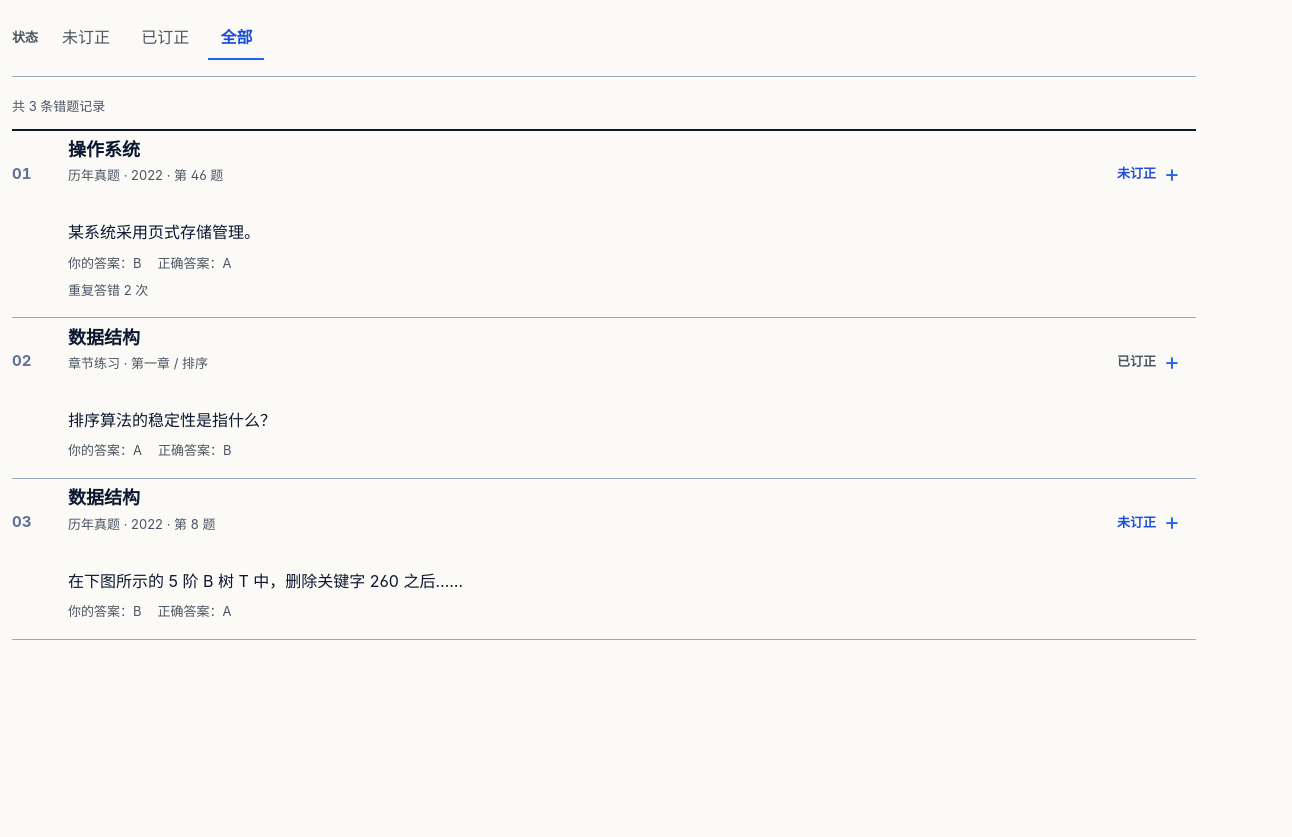
it: Cs408WrongAnswerWorkspace › renders canonical factual statuses and expanded snapshots without legacy terminology
The width and height of the screenshot is (1292, 837).
expect the text "未订正" is shown 2 times: met, box left=1117, top=165, right=1156, bottom=181; left=1117, top=514, right=1156, bottom=530
expect the text "已订正" is shown: met, box left=1117, top=353, right=1156, bottom=369
Click the button with aria-label "展开第 1 条错题记录" at {"x": 104, "y": 150}, box left=12, top=136, right=1196, bottom=212
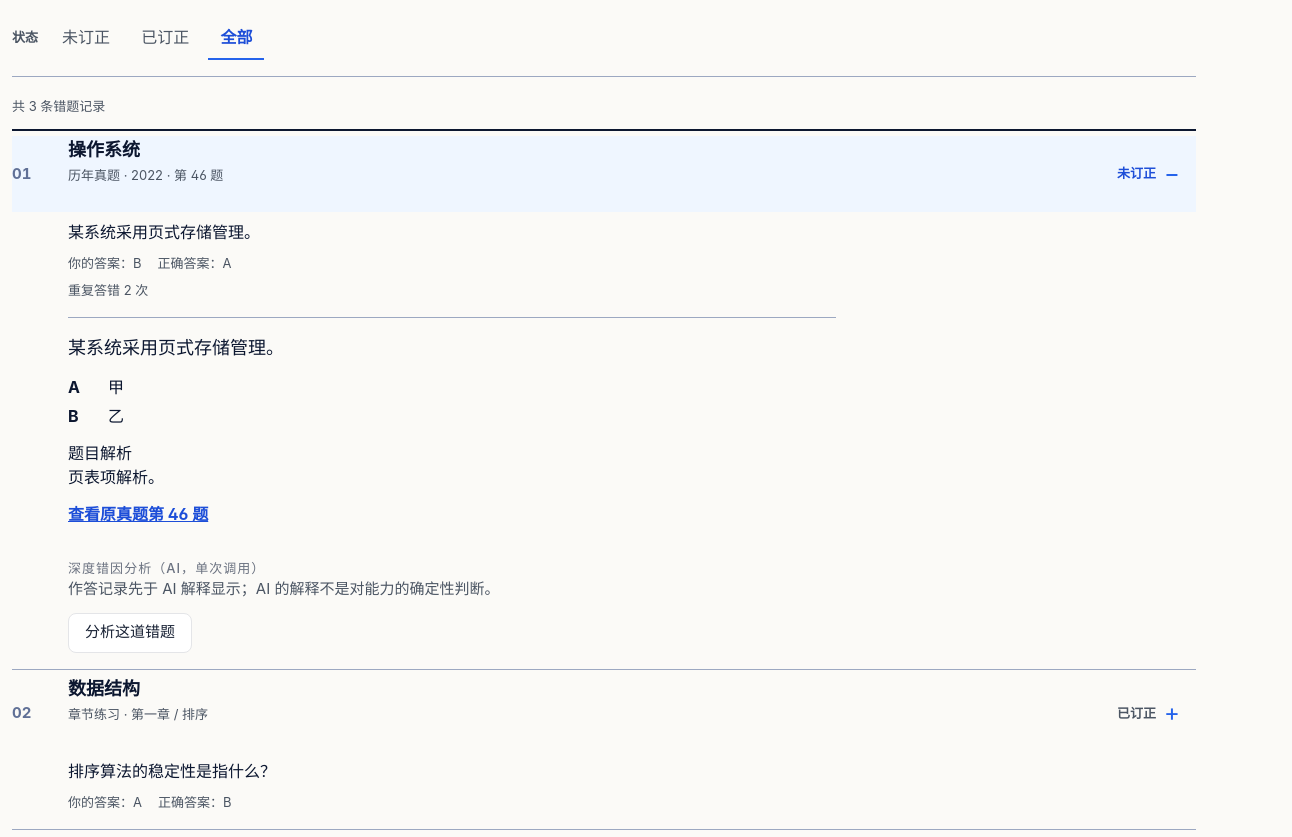
expect the heading "题目解析" is shown: met, box left=68, top=443, right=132, bottom=463
expect the element with class "wrong-answer__detail" shows "某系统采用页式存储管理。": met, box left=68, top=337, right=284, bottom=358
expect the element with class "wrong-answer__detail" shows "甲": met, box left=108, top=377, right=124, bottom=397
